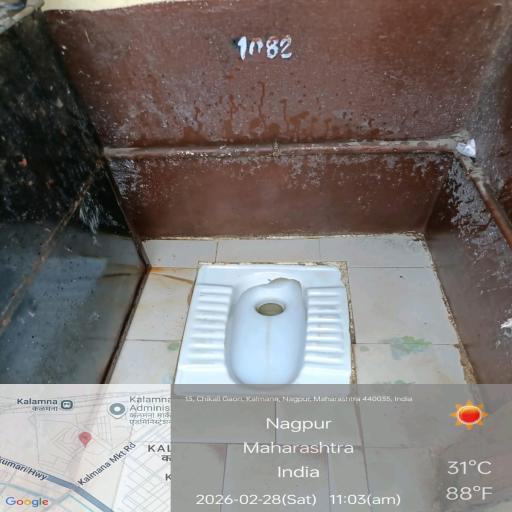clean_floor: (0, 218, 96, 376)
partial_dirty_floor: (75, 88, 512, 212), (36, 2, 508, 83), (336, 238, 472, 377), (116, 237, 188, 396)
partial_dirty_indian: (196, 264, 354, 380)
